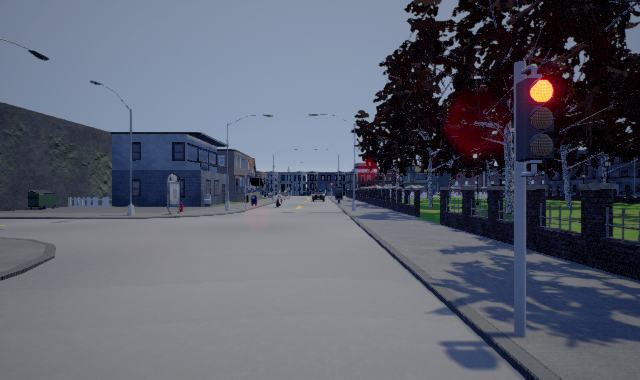bike: (274, 194, 284, 208)
traffic_light: (517, 75, 559, 161)
vehicle: (310, 188, 325, 201)
